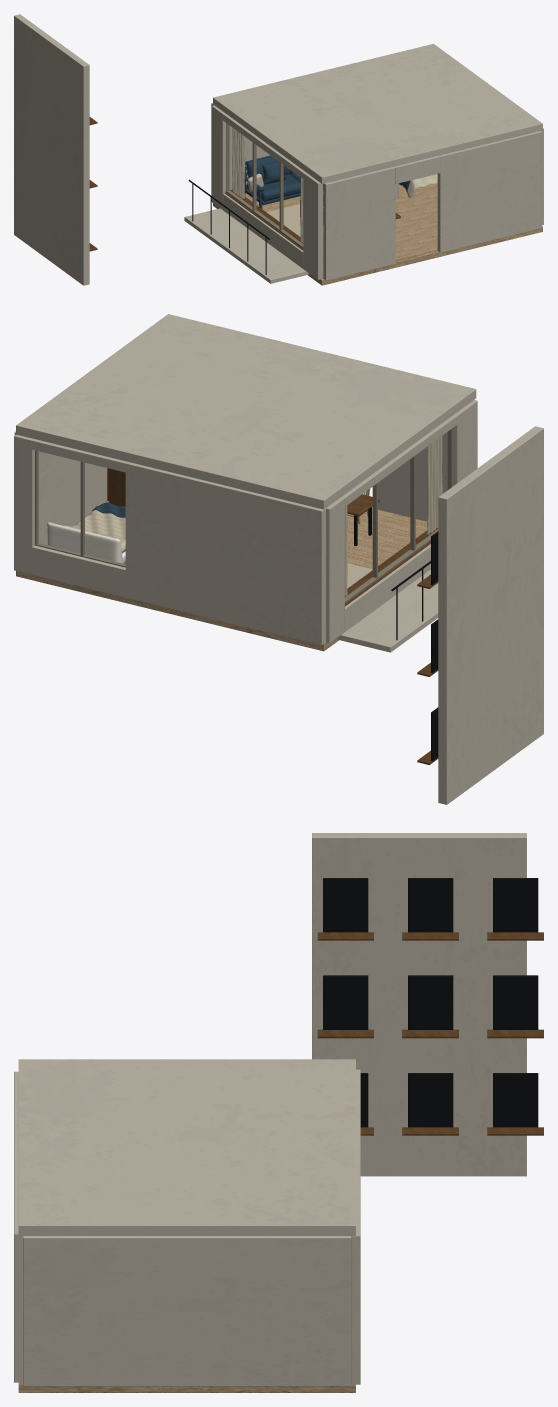
The model's file is daylight-apartment.glb.
3 renders of one model, top to bottom at view 1: azimuth 30°, elevation 25°; view 2: azimuth 150°, elevation 25°; view 3: azimuth 270°, elevation 25°, orthographic. The views are drawn at different scales.
Parts seen in each view (by area): view 1: ceiling, neighbor__facade, wall-south-right, wall-south-left, balcony__slab, wall-west__end-1, sofa__part-0, wall-west__sill, wall-west__end-2, floor__base, entrance__lintel, curtain-b (+8 smaller); view 2: ceiling, neighbor__facade, wall-north__living, wall-east, balcony__slab, wall-north__sill, wall-north__end, wall-south-left, wall-west__end-2, wall-west__sill, floor__base, wall-west__end-1 (+8 smaller); view 3: ceiling, wall-east, neighbor__facade, neighbor__window-5.7-2.2, neighbor__window-7.2-2.2, neighbor__window-5.7-4.1, neighbor__window-7.2-0.3, neighbor__window-7.2-4.1, neighbor__window-8.7-0.3, neighbor__window-8.7-2.2, neighbor__window-8.7-4.1, floor__base (+2 smaller).
Boxes of the visible parts, bbox=[...] form: ceiling: bbox=[213, 44, 542, 183]; neighbor__facade: bbox=[14, 14, 89, 285]; wall-south-right: bbox=[437, 131, 541, 252]; wall-south-left: bbox=[323, 166, 395, 280]; balcony__slab: bbox=[184, 208, 308, 283]; wall-west__end-1: bbox=[303, 172, 322, 279]; sofa__part-0: bbox=[244, 155, 323, 208]; wall-west__sill: bbox=[222, 193, 303, 268]; wall-west__end-2: bbox=[211, 105, 226, 209]; floor__base: bbox=[213, 203, 542, 285]; entrance__lintel: bbox=[394, 155, 440, 183]; curtain-b: bbox=[232, 128, 245, 198]; ceiling: bbox=[16, 314, 476, 509]; neighbor__facade: bbox=[438, 426, 543, 804]; wall-north__living: bbox=[125, 462, 325, 645]; wall-east: bbox=[14, 431, 107, 544]; balcony__slab: bbox=[337, 569, 438, 652]; wall-north__sill: bbox=[32, 545, 126, 597]; wall-north__end: bbox=[14, 434, 34, 574]; wall-south-left: bbox=[378, 399, 474, 521]; wall-west__end-2: bbox=[326, 497, 344, 643]; wall-west__sill: bbox=[345, 544, 430, 631]; floor__base: bbox=[16, 507, 372, 651]; wall-west__end-1: bbox=[452, 400, 477, 486]; ceiling: bbox=[18, 1059, 355, 1235]; wall-east: bbox=[23, 1236, 351, 1386]; neighbor__facade: bbox=[312, 833, 526, 1176]; neighbor__window-5.7-2.2: bbox=[323, 975, 368, 1029]; neighbor__window-7.2-2.2: bbox=[408, 975, 453, 1029]; neighbor__window-5.7-4.1: bbox=[323, 878, 368, 932]; neighbor__window-7.2-0.3: bbox=[408, 1073, 453, 1127]; neighbor__window-7.2-4.1: bbox=[408, 878, 453, 932]; neighbor__window-8.7-0.3: bbox=[493, 1073, 538, 1127]; neighbor__window-8.7-2.2: bbox=[493, 975, 538, 1029]; neighbor__window-8.7-4.1: bbox=[493, 878, 538, 932]; floor__base: bbox=[18, 1382, 355, 1392].
Size of the model in its own units: 11.56 by 6.6 by 9.36.
Materials: 15 (14 with a texture image).
